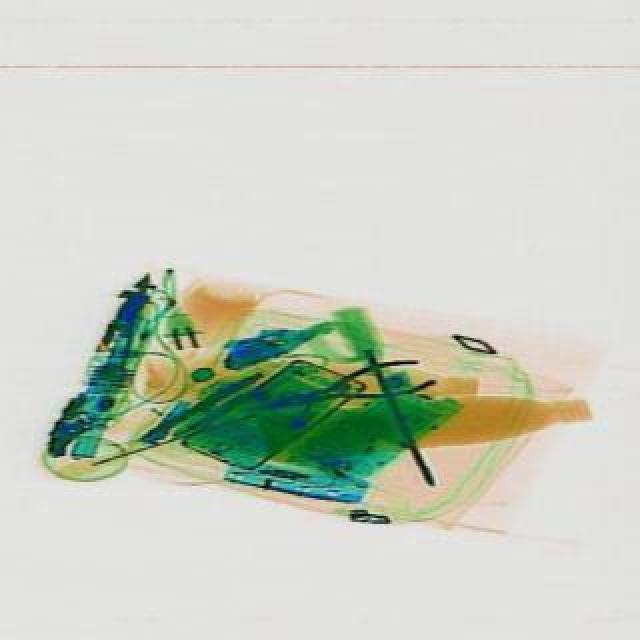wrench: (252, 350, 440, 430)
